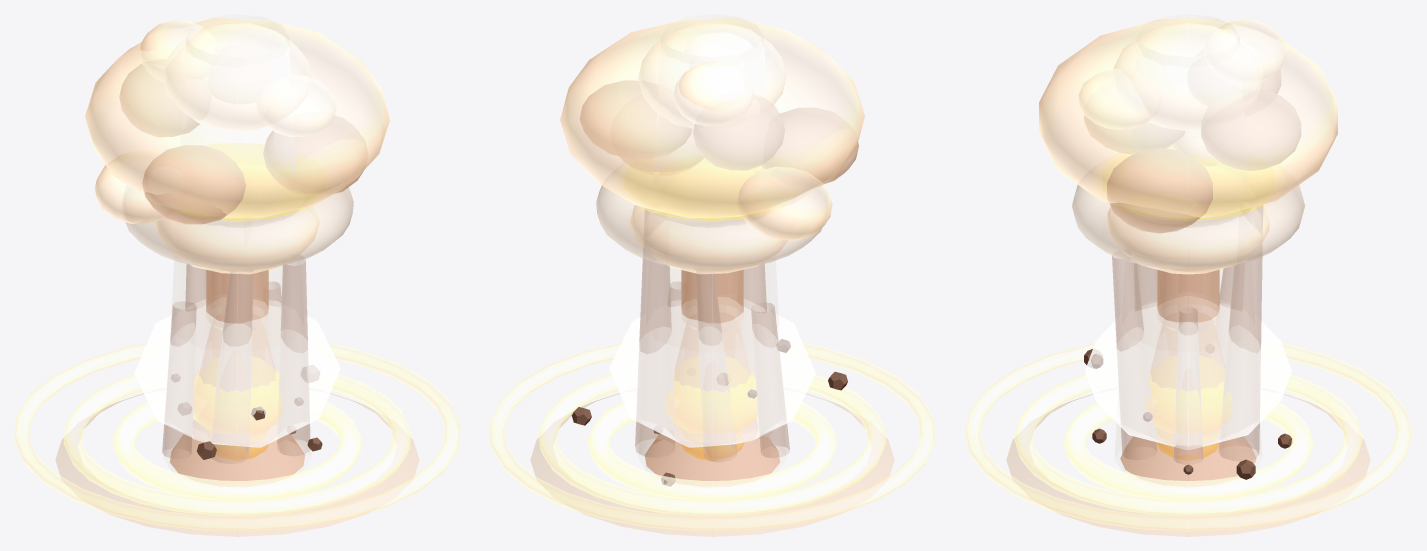
Rendered from nuke_cloud.glb.
The picture shows the model from 3 angles, left to right: view 1: azimuth 30°, elevation 25°; view 2: azimuth 150°, elevation 25°; view 3: azimuth 270°, elevation 25°; orthographic projection.
Parts seen in each view (by area): view 1: nuke_cap, nuke_flash, nuke_ring_2, nuke_lobe_4, nuke_smoke_ring, nuke_ring_1, nuke_dust_skirt, nuke_ring_0, nuke_plume, nuke_lobe_0, nuke_lobe_1, nuke_updraft_1 (+15 smaller); view 2: nuke_cap, nuke_flash, nuke_ring_2, nuke_smoke_ring, nuke_ring_1, nuke_dust_skirt, nuke_lobe_4, nuke_ring_0, nuke_plume, nuke_updraft_5, nuke_lobe_2, nuke_lobe_5 (+15 smaller); view 3: nuke_cap, nuke_flash, nuke_ring_2, nuke_smoke_ring, nuke_lobe_4, nuke_ring_1, nuke_dust_skirt, nuke_ring_0, nuke_lobe_1, nuke_plume, nuke_updraft_5, nuke_lobe_2 (+13 smaller).
Boxes of the visible parts, box(x1,y1,x2,y2) form: nuke_cap: box(85, 18, 389, 218); nuke_flash: box(134, 297, 340, 447); nuke_ring_2: box(14, 343, 460, 531); nuke_lobe_4: box(165, 23, 311, 130); nuke_smoke_ring: box(123, 187, 353, 269); nuke_ring_1: box(63, 374, 411, 516); nuke_dust_skirt: box(55, 393, 419, 536); nuke_ring_0: box(113, 402, 361, 500); nuke_plume: box(155, 205, 319, 274); nuke_lobe_0: box(142, 145, 245, 224); nuke_lobe_1: box(263, 115, 366, 193); nuke_updraft_1: box(277, 259, 310, 455); nuke_cap: box(560, 18, 864, 218); nuke_flash: box(609, 297, 815, 447); nuke_ring_2: box(489, 343, 935, 531); nuke_smoke_ring: box(596, 185, 821, 269); nuke_ring_1: box(538, 374, 886, 516); nuke_dust_skirt: box(530, 393, 894, 536); nuke_lobe_4: box(638, 23, 786, 128); nuke_ring_0: box(588, 402, 836, 500); nuke_plume: box(630, 205, 787, 274); nuke_updraft_5: box(635, 209, 674, 457); nuke_lobe_2: box(580, 80, 691, 159); nuke_lobe_5: box(737, 167, 832, 240); nuke_cap: box(1039, 17, 1337, 218); nuke_flash: box(1085, 295, 1291, 449); nuke_ring_2: box(964, 343, 1412, 531); nuke_smoke_ring: box(1072, 185, 1304, 269); nuke_lobe_4: box(1114, 22, 1262, 130); nuke_ring_1: box(1014, 374, 1362, 516); nuke_dust_skirt: box(1006, 394, 1370, 536); nuke_ring_0: box(1064, 402, 1312, 500); nuke_lobe_1: box(1107, 148, 1212, 233); nuke_plume: box(1107, 204, 1269, 274); nuke_updraft_5: box(1219, 205, 1262, 460); nuke_lobe_2: box(1201, 89, 1300, 170).
Size of the model in its own units: 157 by 165 by 157.
